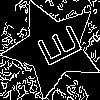E: (27, 22, 84, 73)
